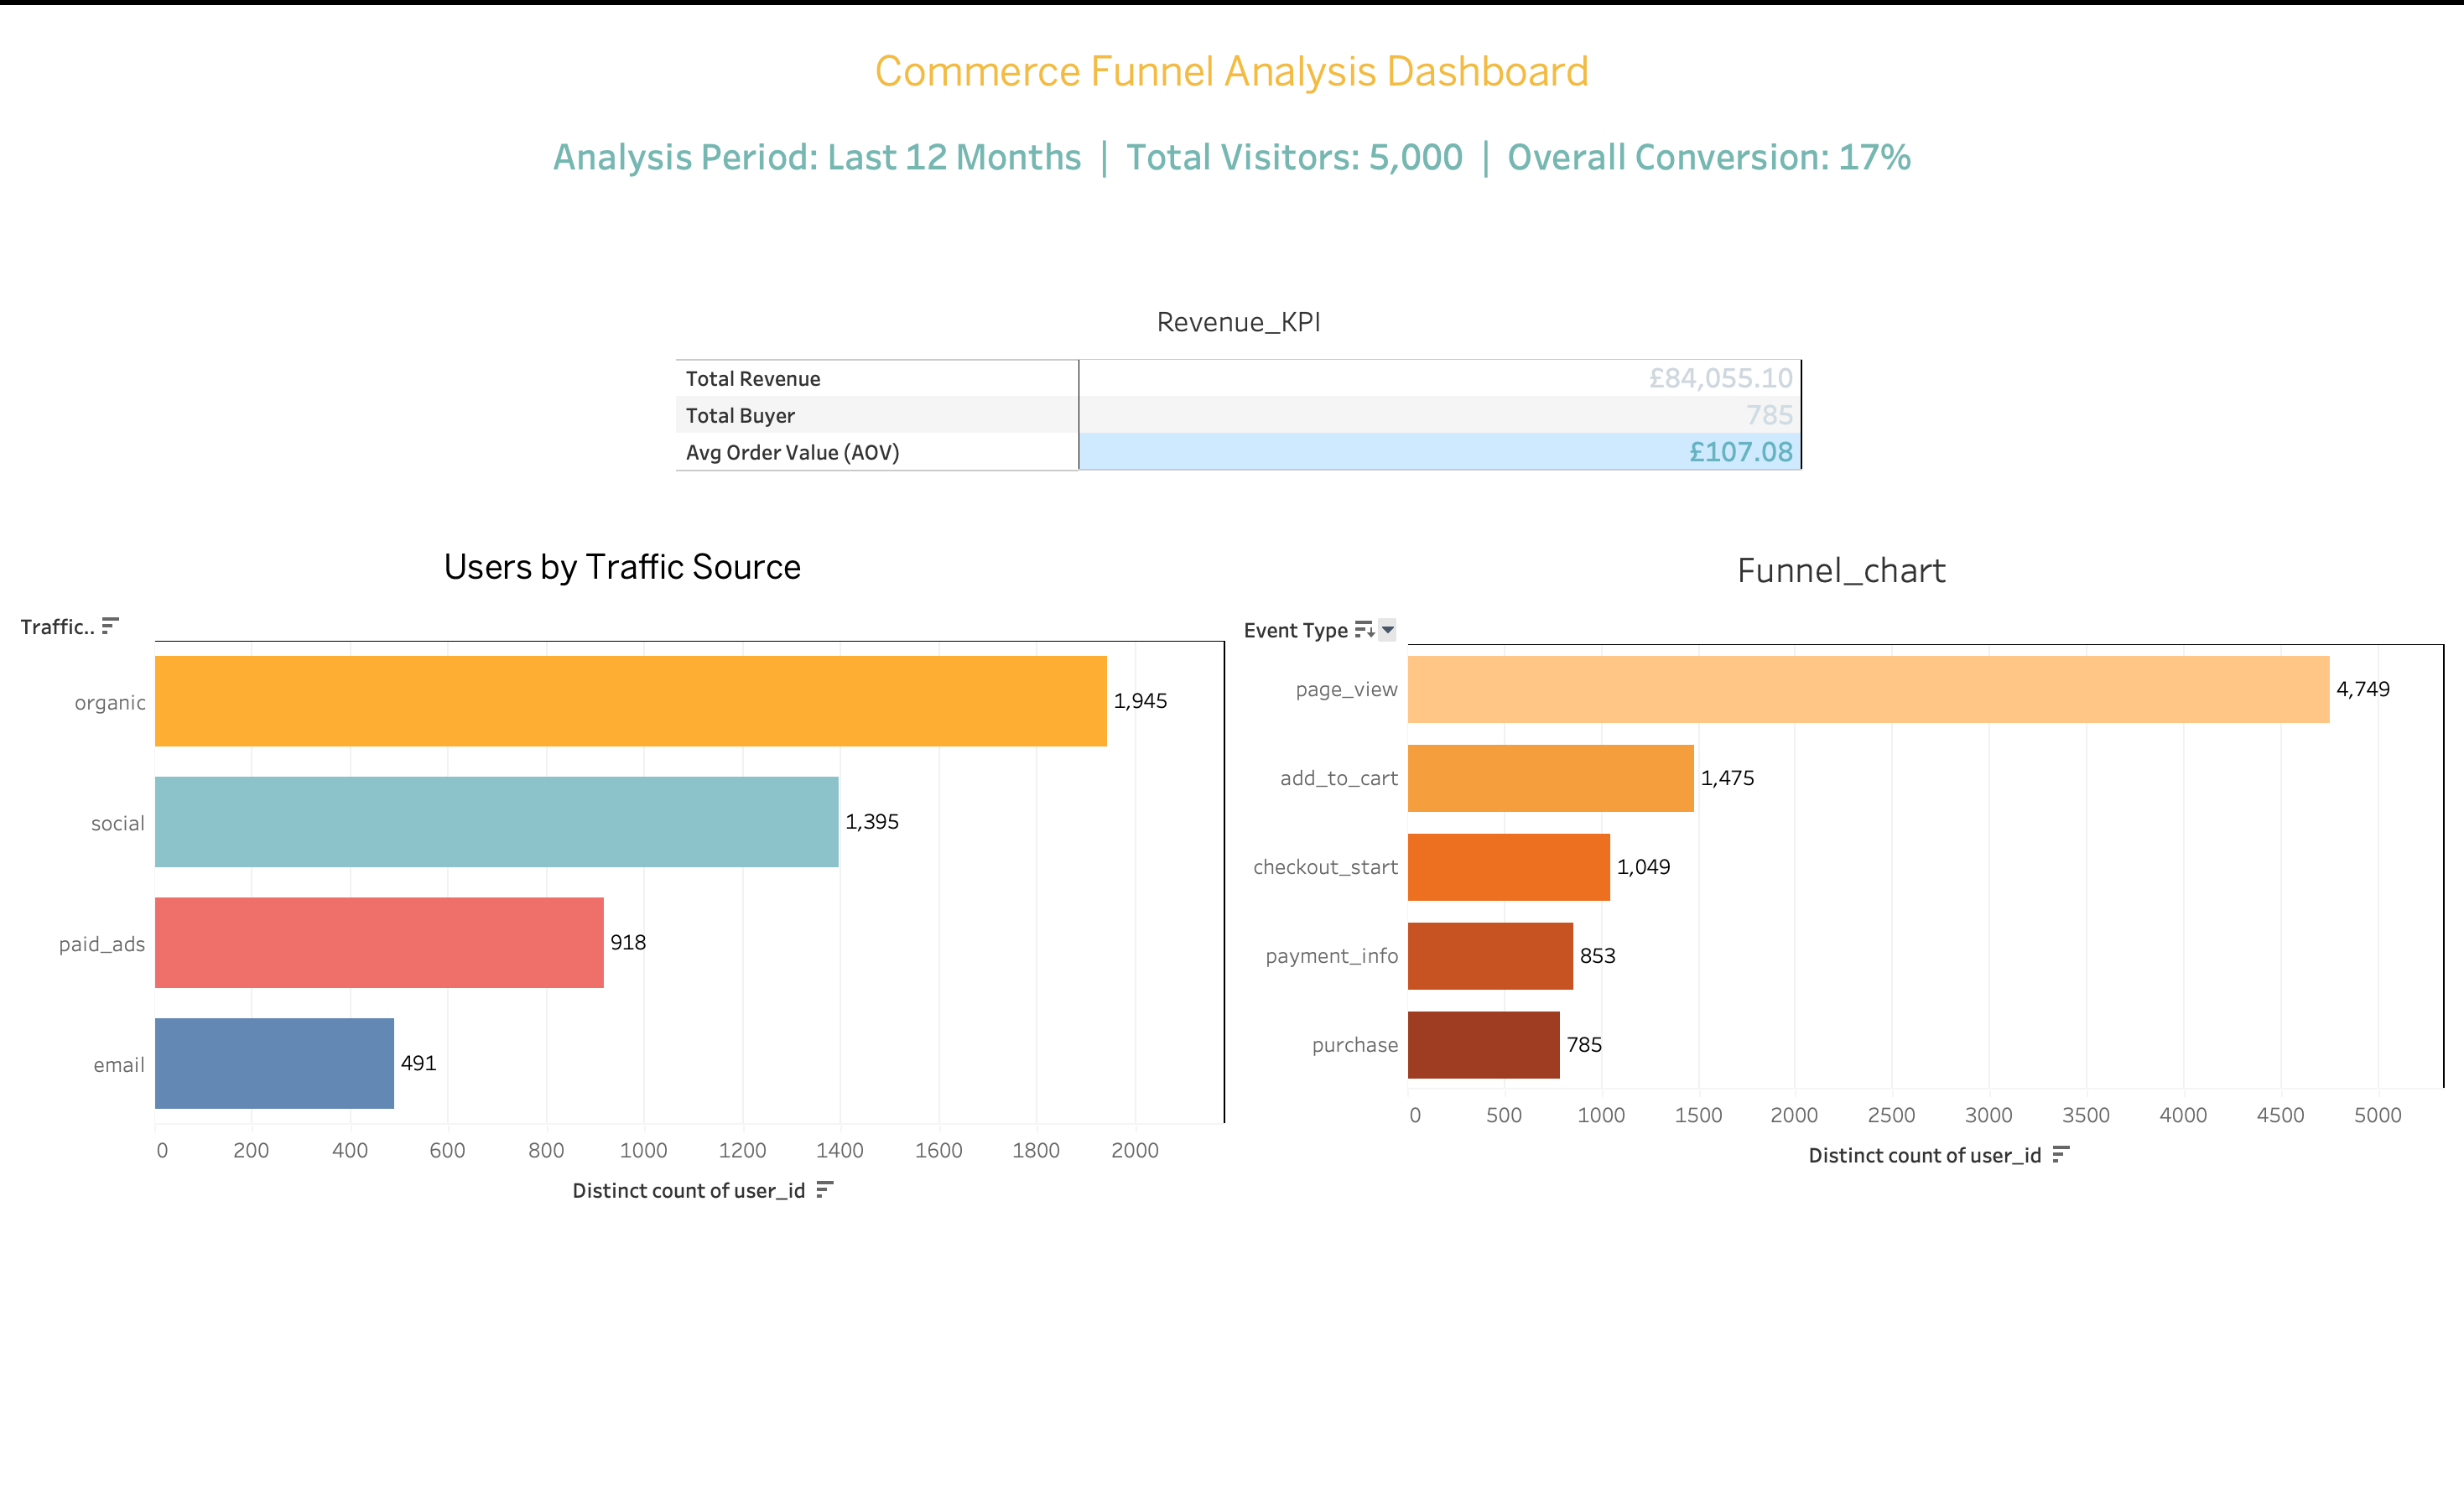

What the dashboard file says about the page in this screenshot:
{"tool":"tableau","page":{"name":"Dashboard 1","canvas":[1000,1000],"units":"permille","ordinal":0},"visuals":[{"type":"title","box":[5.4,9,989.1,70.5]},{"type":"text","box":[5.4,79.5,989.1,272.1]},{"type":"worksheet","title":"Revenue_KPI","mark":"Automatic","box":[274.5,193.7,457.4,131.2]},{"type":"worksheet","title":"Traffic_sources","mark":"Automatic","rows":["traffic_source"],"cols":["user_id"],"box":[5.4,351.6,494.5,639.4]},{"type":"worksheet","title":"Funnel_chart","mark":"Automatic","rows":["event_type"],"cols":["user_id"],"box":[499.9,351.6,494.6,639.4]}]}

Visuals, with their boxes on the dashboard's canvas, which has no fixed pixel size, in thousandths of its width and height (x1, y1, x2, y2). These are canvas units, not pixel positions in the 2464x1498 screenshot, which may show the page scaled, cropped or inside an application window:
title: bbox(5, 9, 994, 80)
text: bbox(5, 80, 994, 352)
"Revenue_KPI" worksheet: bbox(274, 194, 732, 325)
"Traffic_sources" worksheet: bbox(5, 352, 500, 991)
"Funnel_chart" worksheet: bbox(500, 352, 994, 991)
